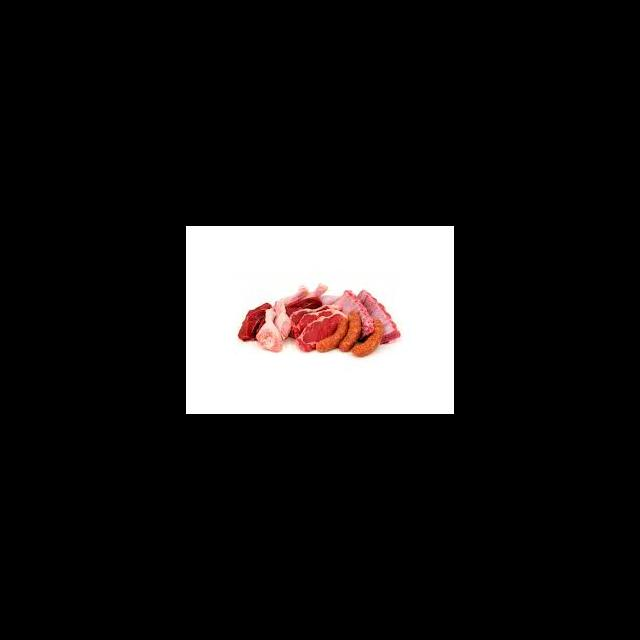food_waste: (235, 288, 402, 362)
